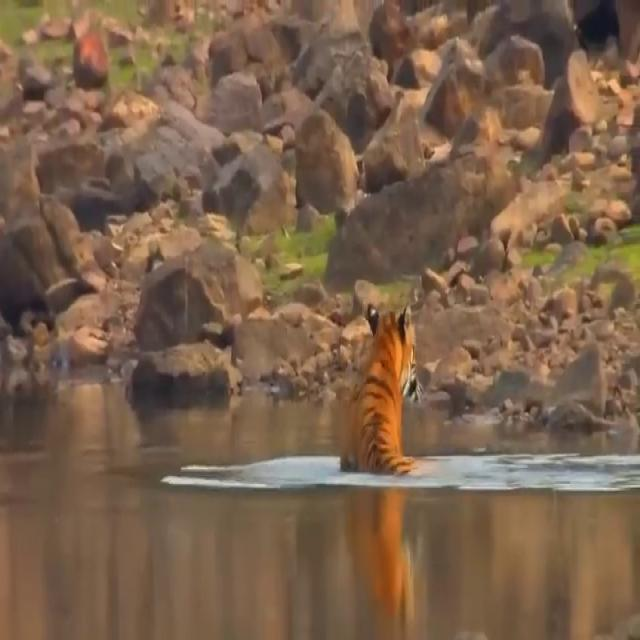tiger: (338, 302, 424, 475)
